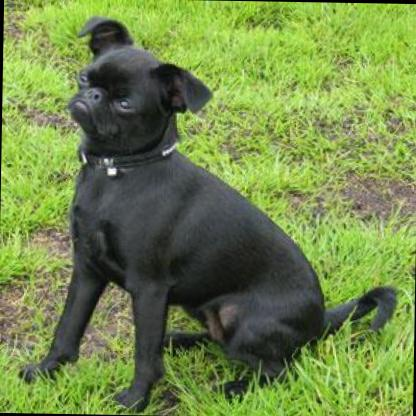Brabancon_griffon: (13, 12, 400, 416)
